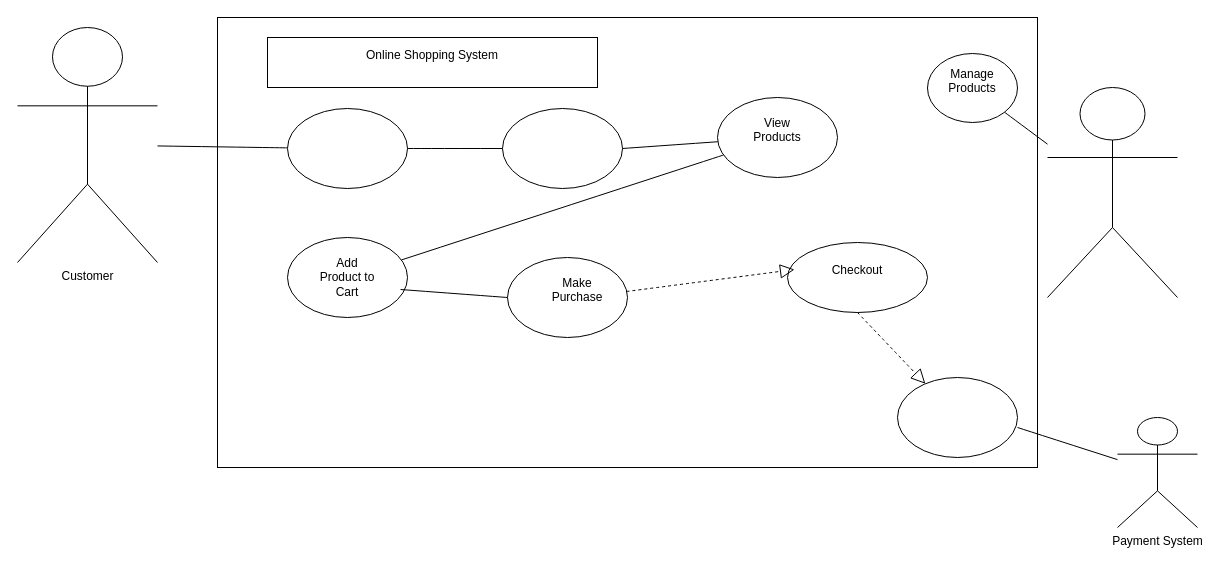
Some shapes in this 1220 by 581 pixel diagram are drawn without their labels. Here are the shapes that lost their labels. From the top down, the box of each, then its label:
(286, 108, 408, 188): Register New Account
(502, 108, 622, 188): Log In
(1046, 86, 1178, 298): Administrator
(896, 376, 1018, 458): Process Payment
